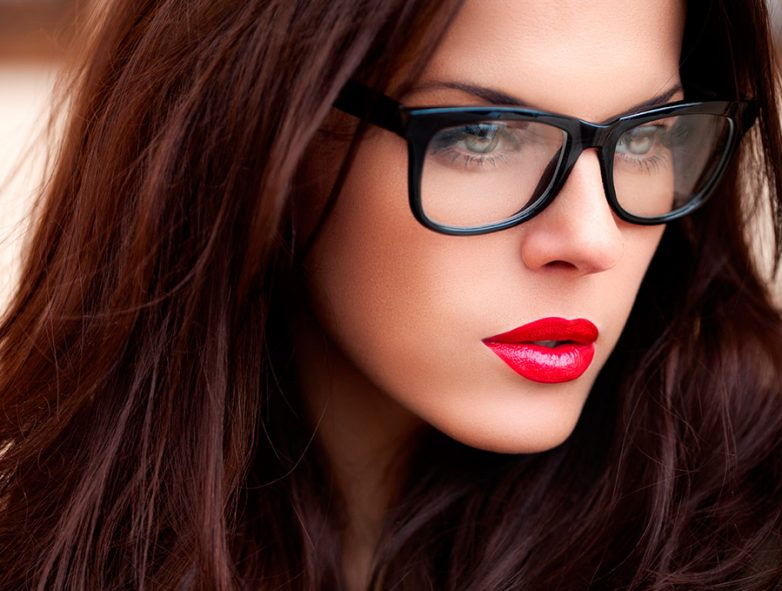glasses: (368, 78, 747, 256)
